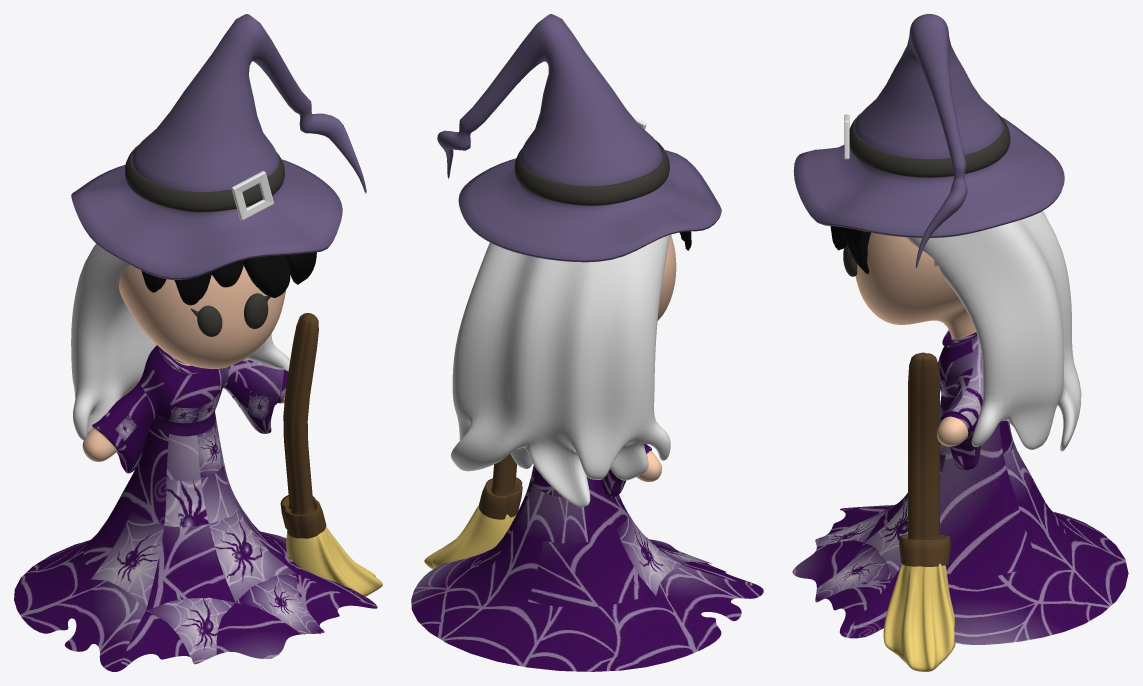
File: witch_model_EXP.fbx
The picture shows the model from 3 angles, left to right: view 1: azimuth 30°, elevation 25°; view 2: azimuth 150°, elevation 25°; view 3: azimuth 270°, elevation 25°; orthographic projection. The views are drawn at different scales.
Parts seen in each view (by area): view 1: Cube, Cylinder, Cube.001, Broomstick, Belt Hat, Broom, Plane, buckle, Plane.003, Eye.001, Plane.002, Eye (+1 smaller); view 2: Cube.001, Cube, Cylinder, Belt Hat, Broom, Broomstick; view 3: Cube, Cylinder, Cube.001, Broomstick, Broom, Belt Hat, Plane.002.
Part boxes in pixels (<box>): Cube: <box>14,265,377,671</box>; Cylinder: <box>71,14,366,279</box>; Cube.001: <box>71,244,290,440</box>; Broomstick: <box>280,313,326,538</box>; Belt Hat: <box>125,144,284,212</box>; Broom: <box>286,526,382,596</box>; Plane: <box>243,255,290,297</box>; buckle: <box>231,171,273,220</box>; Plane.003: <box>174,271,212,305</box>; Eye.001: <box>244,293,270,328</box>; Plane.002: <box>285,252,316,284</box>; Eye: <box>191,305,222,336</box>; Cube.001: <box>451,235,670,507</box>; Cube: <box>411,234,763,671</box>; Cylinder: <box>437,14,721,262</box>; Belt Hat: <box>514,140,669,205</box>; Broom: <box>424,505,516,569</box>; Broomstick: <box>479,454,522,519</box>; Cube: <box>792,232,1128,644</box>; Cylinder: <box>793,14,1064,268</box>; Cube.001: <box>905,211,1081,451</box>; Broomstick: <box>899,352,950,566</box>; Broom: <box>883,564,955,671</box>; Belt Hat: <box>849,112,1010,177</box>; Plane.002: <box>844,227,870,274</box>.
Bounding box in the file's own units: 231 × 412 × 209.
